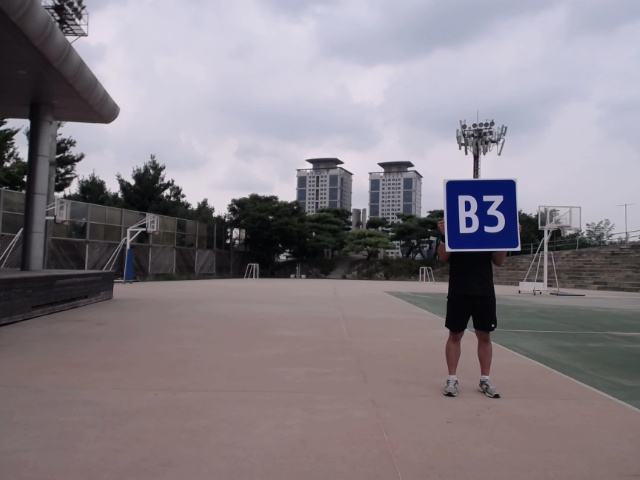delivery_b3: (443, 177, 520, 252)
